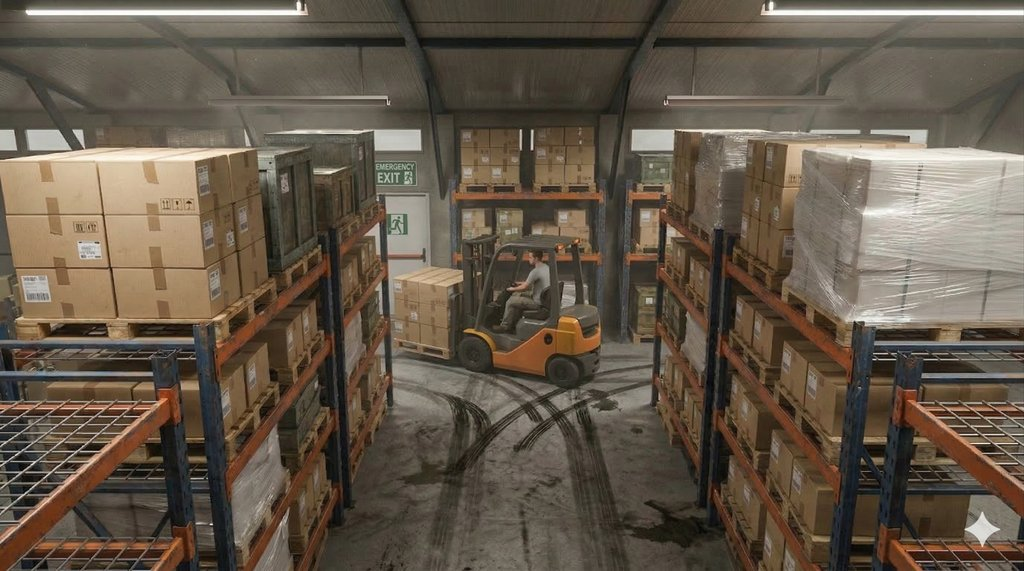empty_shelf: (2, 343, 196, 569), (900, 349, 1024, 567)
exit_sign: (369, 156, 425, 194)
forklift: (410, 222, 625, 381)
pallet: (219, 255, 341, 333), (212, 389, 285, 442), (532, 181, 604, 199), (459, 183, 523, 195), (628, 331, 658, 348), (631, 181, 670, 194), (633, 242, 660, 253)
person: (492, 240, 547, 338)
safety_signage: (382, 211, 408, 236)
spill: (433, 388, 666, 457), (603, 480, 729, 555)
